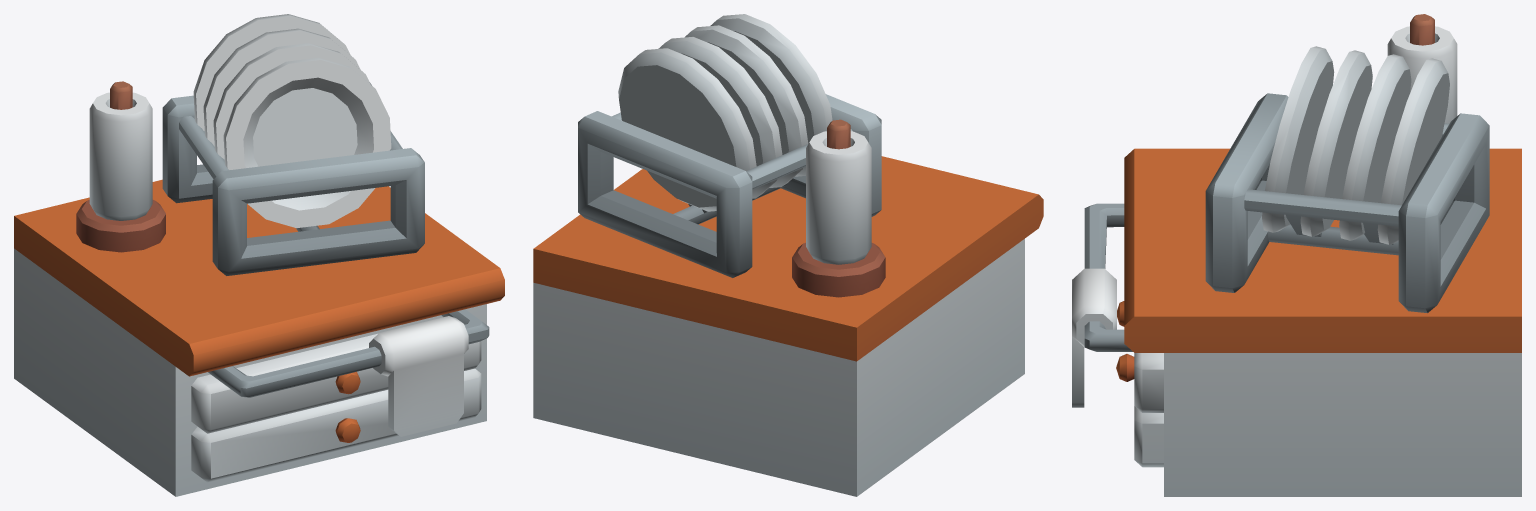
The model's file is counter.glb.
The picture shows the model from 3 angles, left to right: view 1: azimuth 30°, elevation 25°; view 2: azimuth 150°, elevation 25°; view 3: azimuth 270°, elevation 25°; orthographic projection. The views are drawn at different scales.
Parts seen in each view (by area): view 1: kitchencounter_straight_A_decorated; view 2: kitchencounter_straight_A_decorated; view 3: kitchencounter_straight_A_decorated.
Boxes of the visible parts, x1,y1,x2,y2 form: kitchencounter_straight_A_decorated: (14, 14, 504, 496); kitchencounter_straight_A_decorated: (533, 14, 1043, 496); kitchencounter_straight_A_decorated: (1072, 14, 1521, 496).
Bounding box in the file's own units: 2.01 × 2.1 × 2.26.
Materials: 1 (1 with a texture image).
